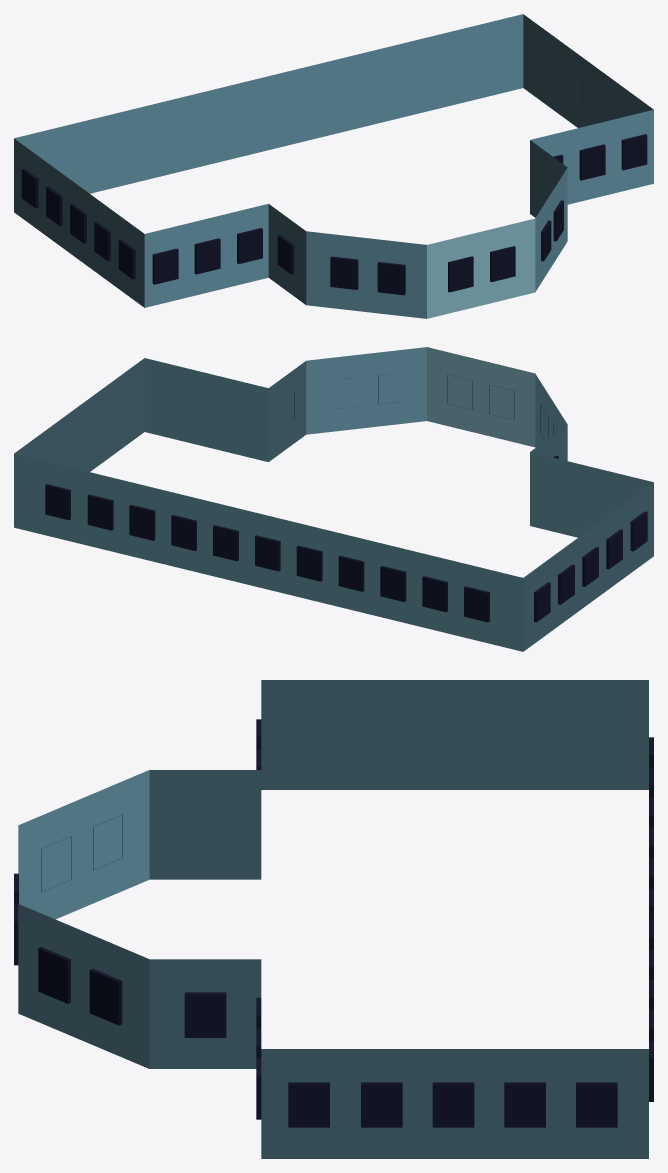
Rendered from TB_CITY_Skysc_O_BodyB_Blue.FBX.
3 views of the same model, one above another, from view 1: azimuth 30°, elevation 25°; view 2: azimuth 150°, elevation 25°; view 3: azimuth 270°, elevation 25° (orthographic). The views are drawn at different scales.
Visible parts, largest first — view 1: TB_CITY_Skysc_O_BodyB_Blue; view 2: TB_CITY_Skysc_O_BodyB_Blue; view 3: TB_CITY_Skysc_O_BodyB_Blue.
Part boxes in pixels (x1,y1,x2,y2): TB_CITY_Skysc_O_BodyB_Blue: (14, 14, 653, 318); TB_CITY_Skysc_O_BodyB_Blue: (14, 347, 653, 651); TB_CITY_Skysc_O_BodyB_Blue: (14, 680, 653, 1158).
Bounding box in the file's own units: 36.39 × 5 × 26.39.
